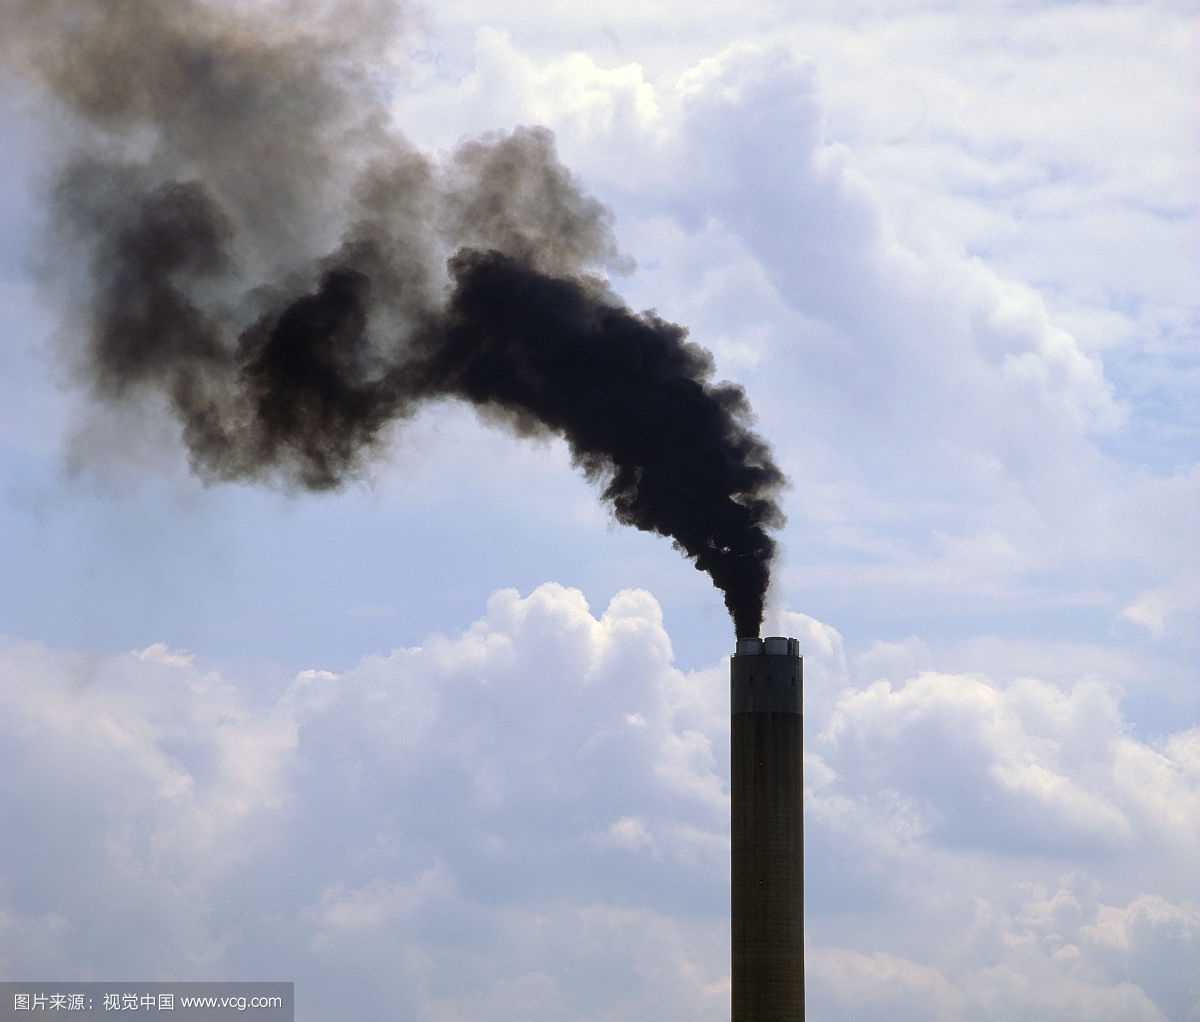dust: (30, 13, 828, 691)
